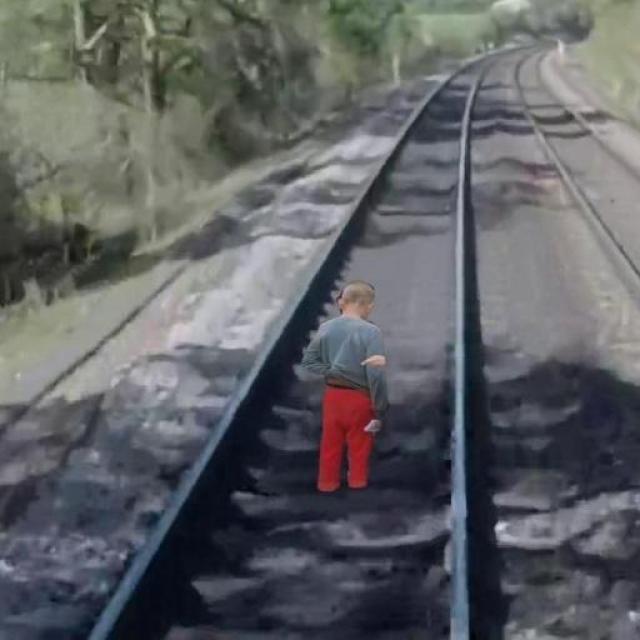people: (298, 271, 394, 498)
